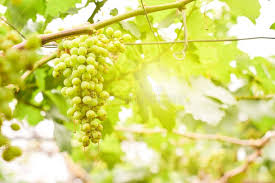grapes: (54, 34, 110, 148)
